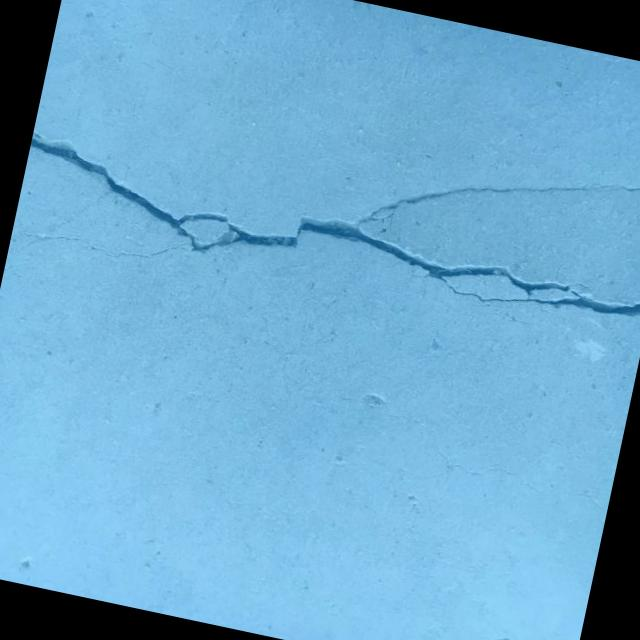crack: (7, 47, 640, 384), (415, 445, 612, 520), (205, 282, 308, 388)
